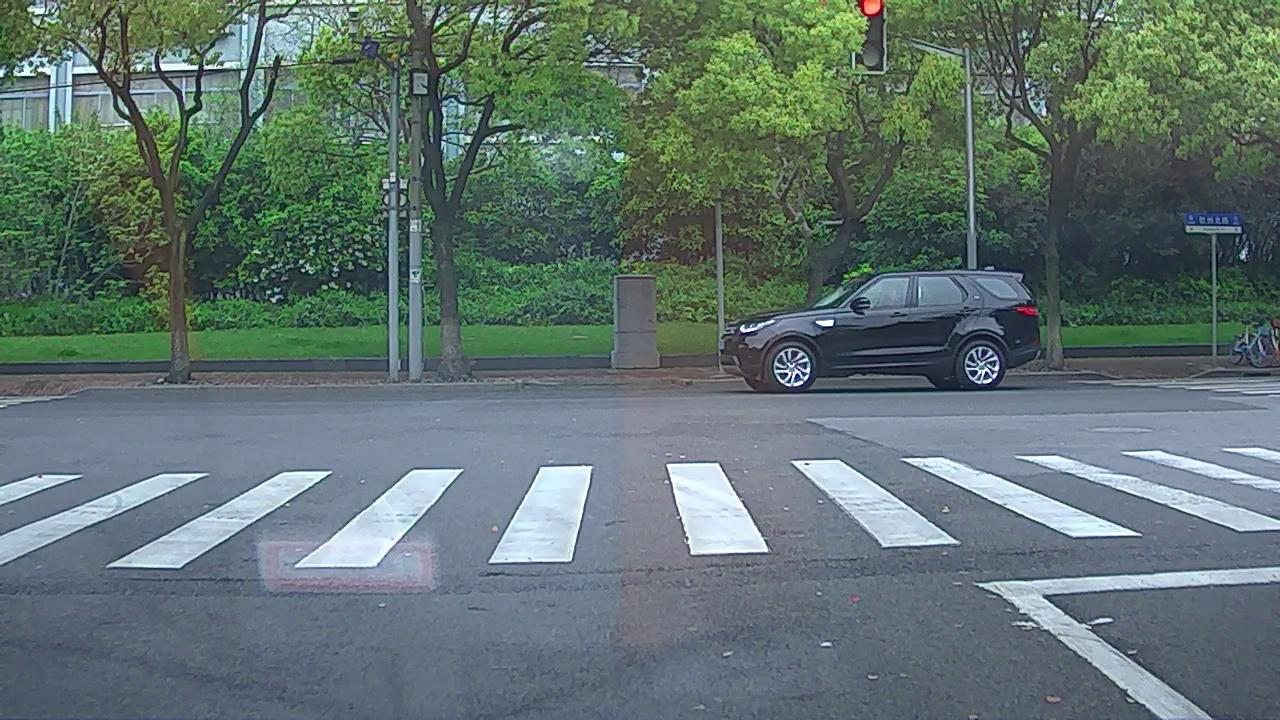traffic_light: (856, 1, 890, 71)
